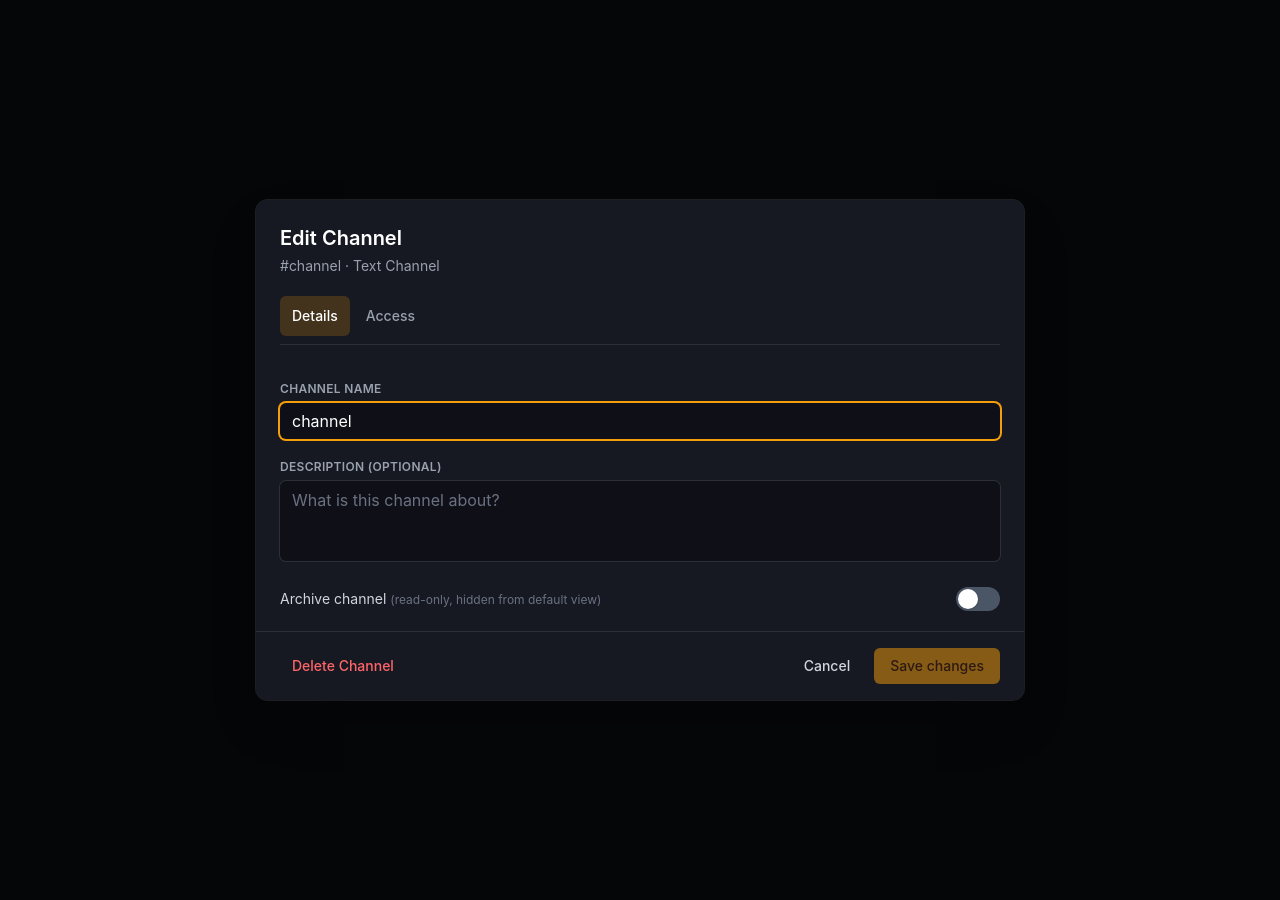
it: shows a visible load error instead of treating a failed load as an empty audience
The image size is (1280, 900).
Click the tab "Access" at (390, 316), box [354,296,427,336]
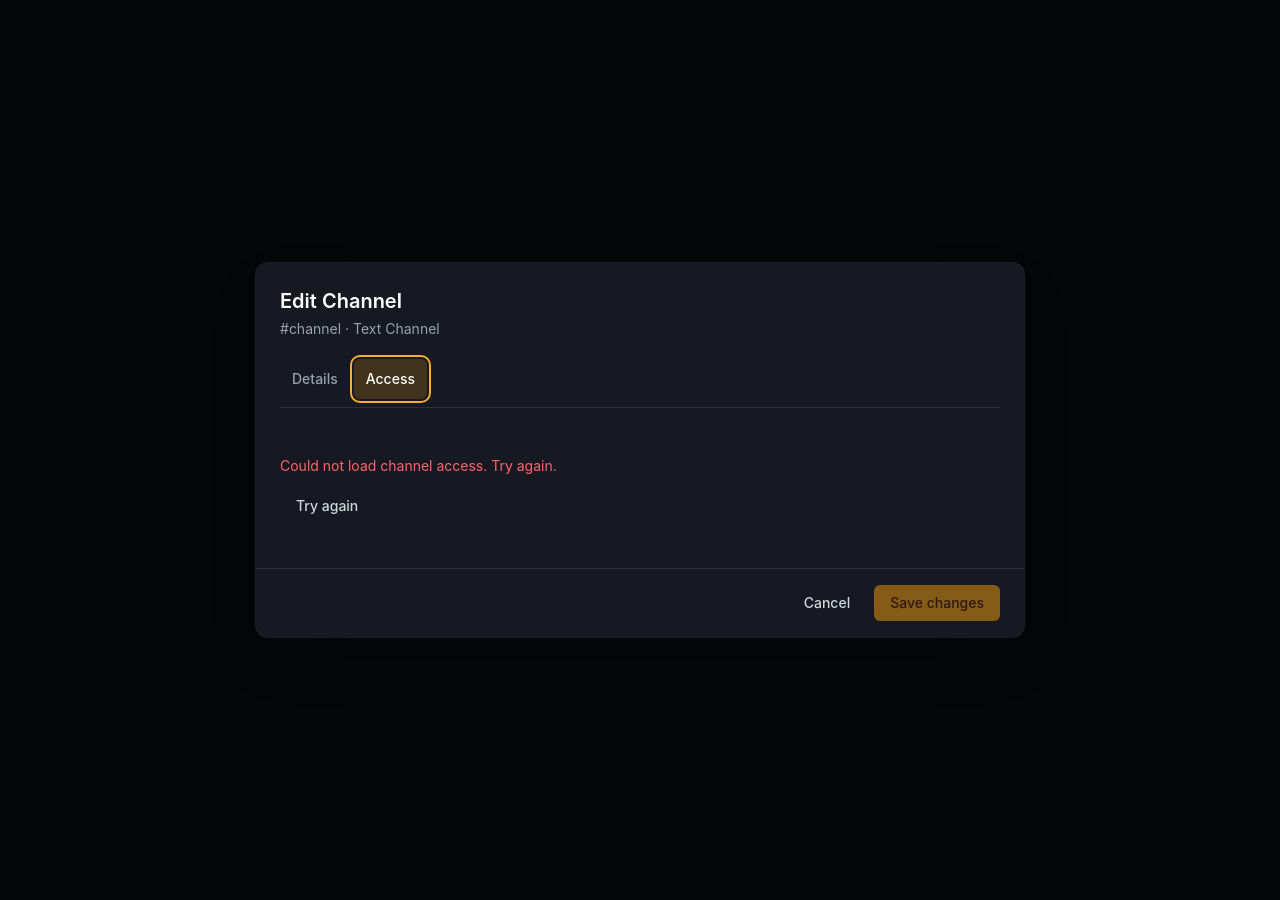
Expected: the text "Could not load channel access. Try again." is shown, [280,457,557,474]
